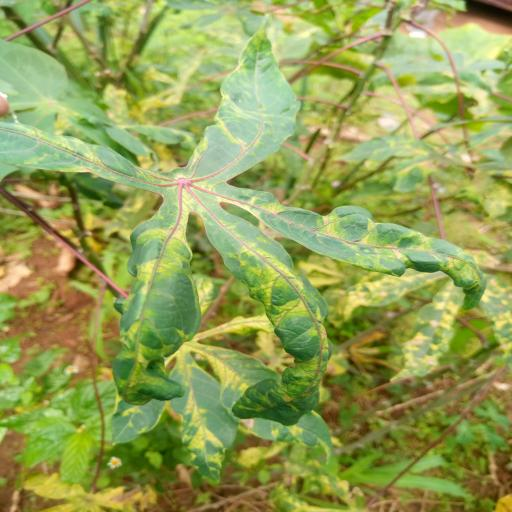Cassava_Mosaic: (0, 41, 512, 395)
